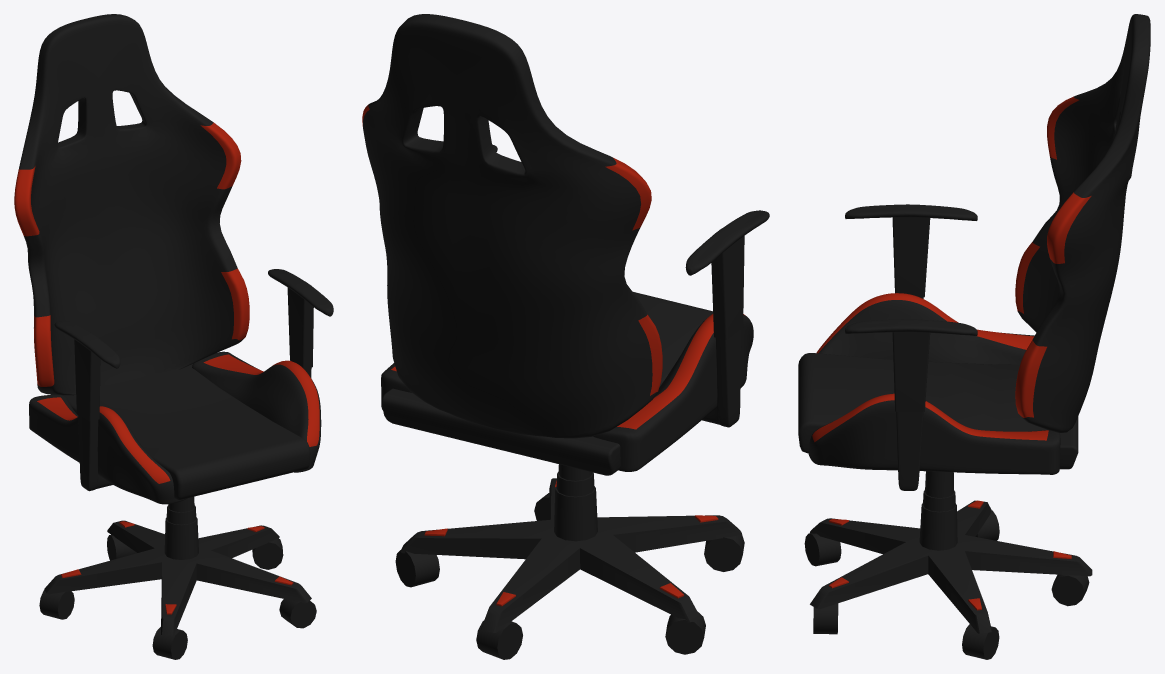
The model's file is gaming chair.fbx.
The picture shows the model from 3 angles, left to right: view 1: azimuth 30°, elevation 25°; view 2: azimuth 150°, elevation 25°; view 3: azimuth 270°, elevation 25°; orthographic projection. The views are drawn at different scales.
Parts seen in each view (by area): view 1: Cube.017, Circle.001, Plane.004, Cube.004, Cube.016, Cube.002; view 2: Cube.017, Circle.001, Cube.004, Plane.007, Cube.016, Cube.002, Plane.004; view 3: Cube.017, Circle.001, Cube.004, Plane.004, Cube.002, Cube.016, Plane.007.
Part boxes in pixels (<box>): Cube.017: <box>14,14,249,395</box>; Circle.001: <box>39,496,316,659</box>; Plane.004: <box>63,365,310,499</box>; Cube.004: <box>29,351,321,504</box>; Cube.016: <box>54,269,333,491</box>; Cube.002: <box>74,287,313,421</box>; Cube.017: <box>362,14,662,438</box>; Circle.001: <box>395,464,744,659</box>; Cube.004: <box>381,314,753,471</box>; Plane.007: <box>381,388,620,475</box>; Cube.016: <box>492,144,769,427</box>; Cube.002: <box>711,236,744,339</box>; Plane.004: <box>633,292,713,387</box>; Cube.017: <box>1015,14,1150,432</box>; Circle.001: <box>804,471,1092,659</box>; Cube.004: <box>808,293,1060,474</box>; Plane.004: <box>798,353,1046,453</box>; Cube.002: <box>892,217,930,412</box>; Cube.016: <box>845,204,977,490</box>; Plane.007: <box>1060,416,1078,469</box>.
Bounding box in the file's own units: 61.88 × 127 × 70.57.
